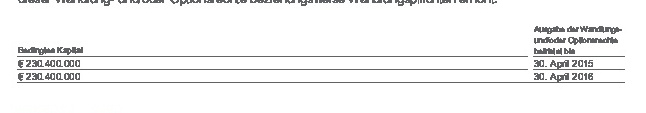table: (0, 0, 646, 113)
